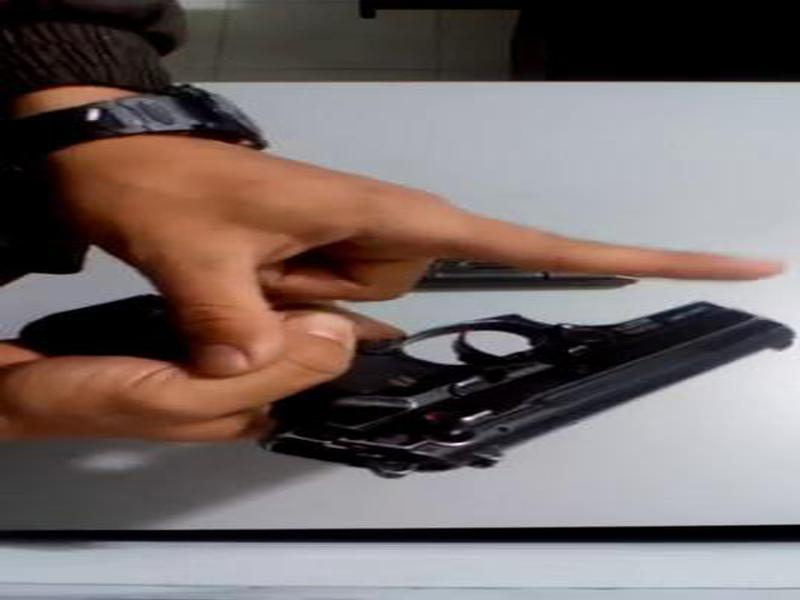Pistola: (235, 286, 797, 494)
